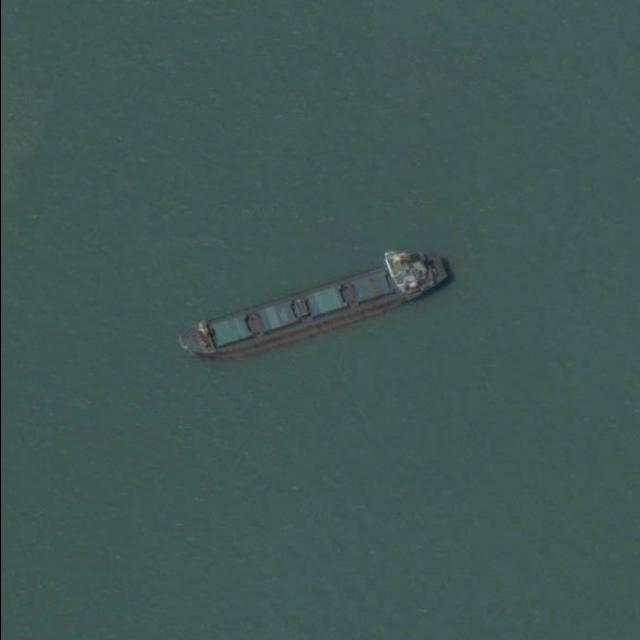ship: (175, 248, 452, 360)
